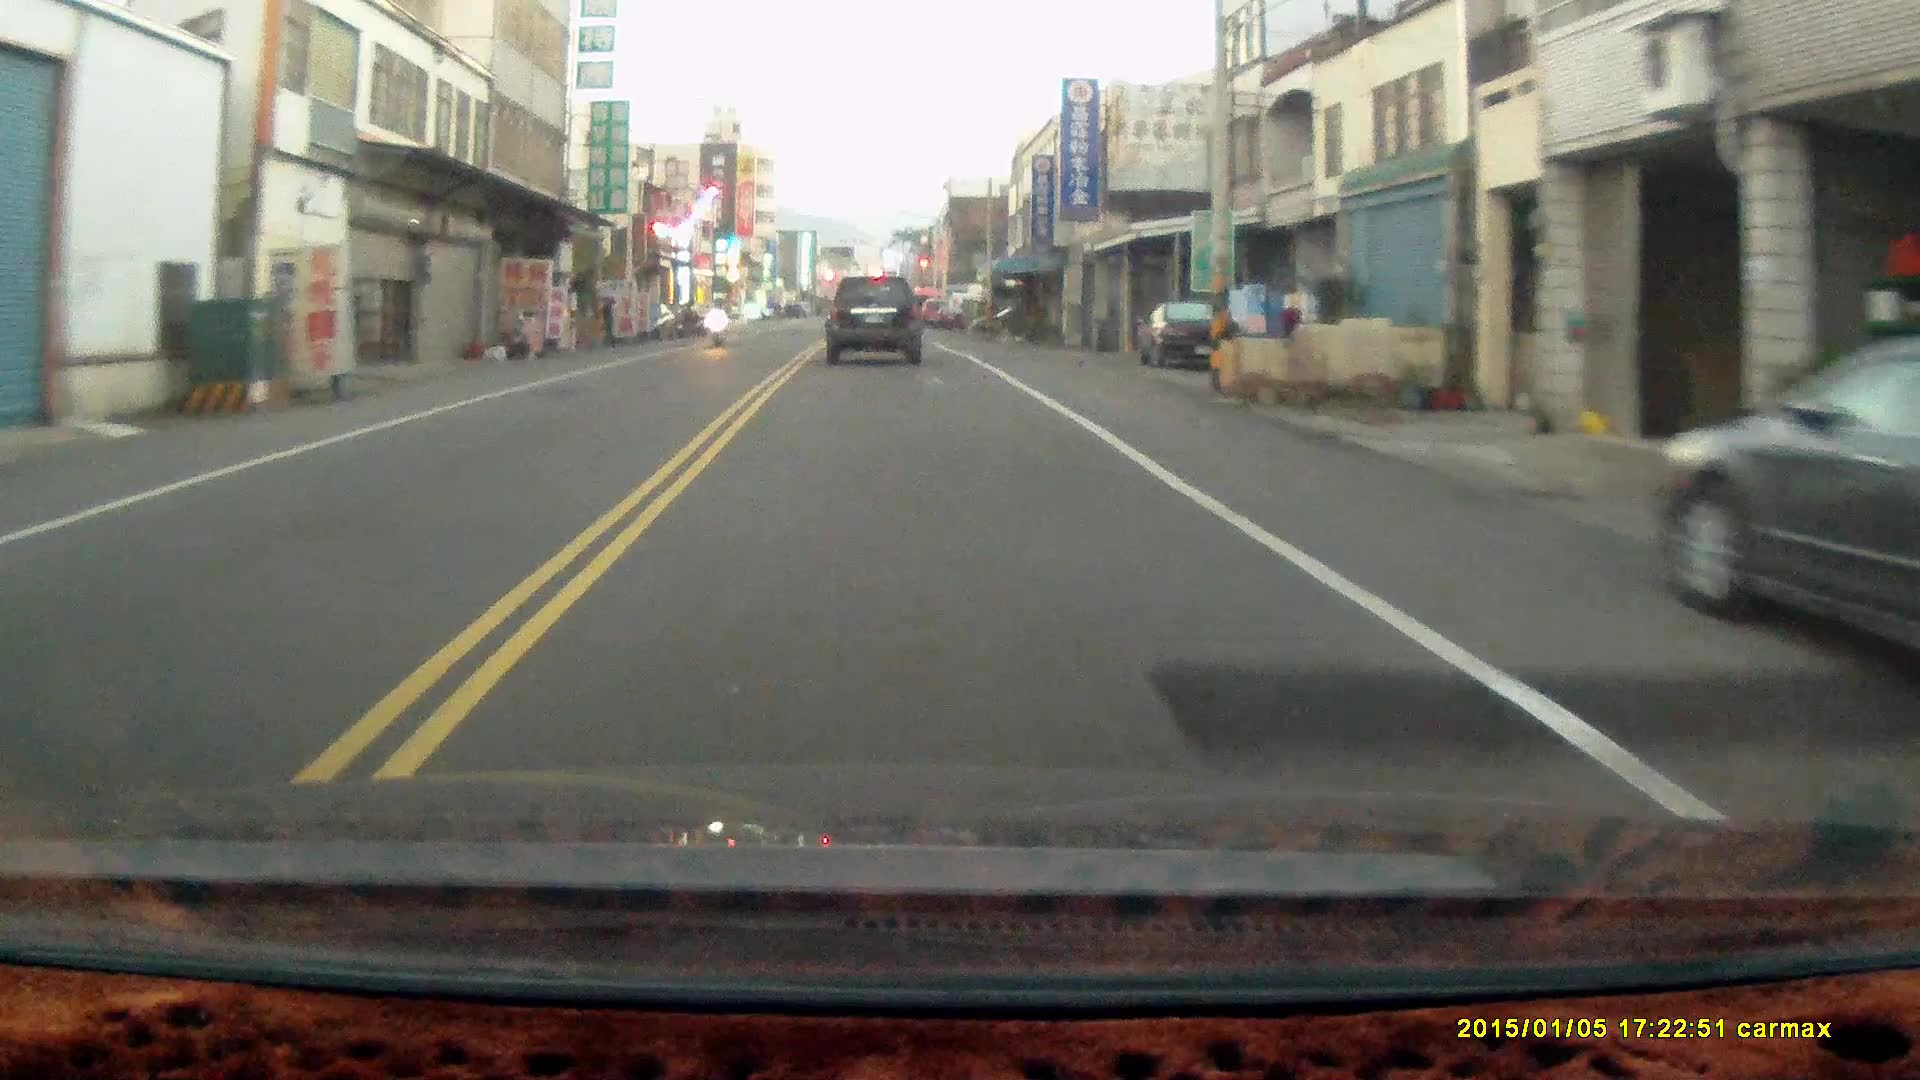pedestrian: (595, 293, 616, 352)
rider: (700, 291, 727, 345)
vehicle: (1653, 335, 1920, 681), (825, 277, 925, 369), (1139, 299, 1248, 375)
